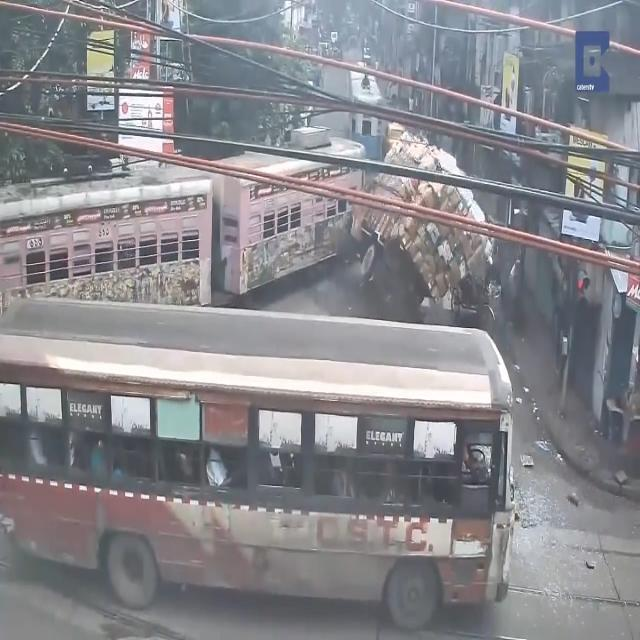accident: (343, 113, 501, 335)
